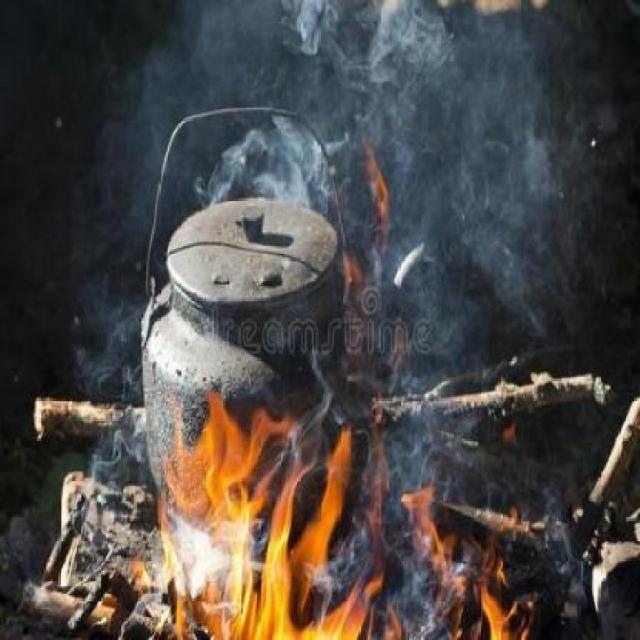Fire: (117, 386, 366, 640), (333, 477, 540, 640), (371, 146, 386, 216)
